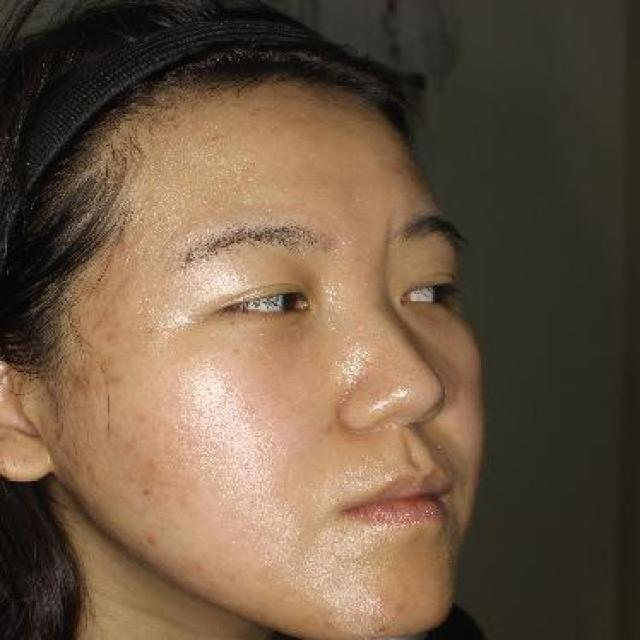blackheads: (134, 484, 159, 502)
